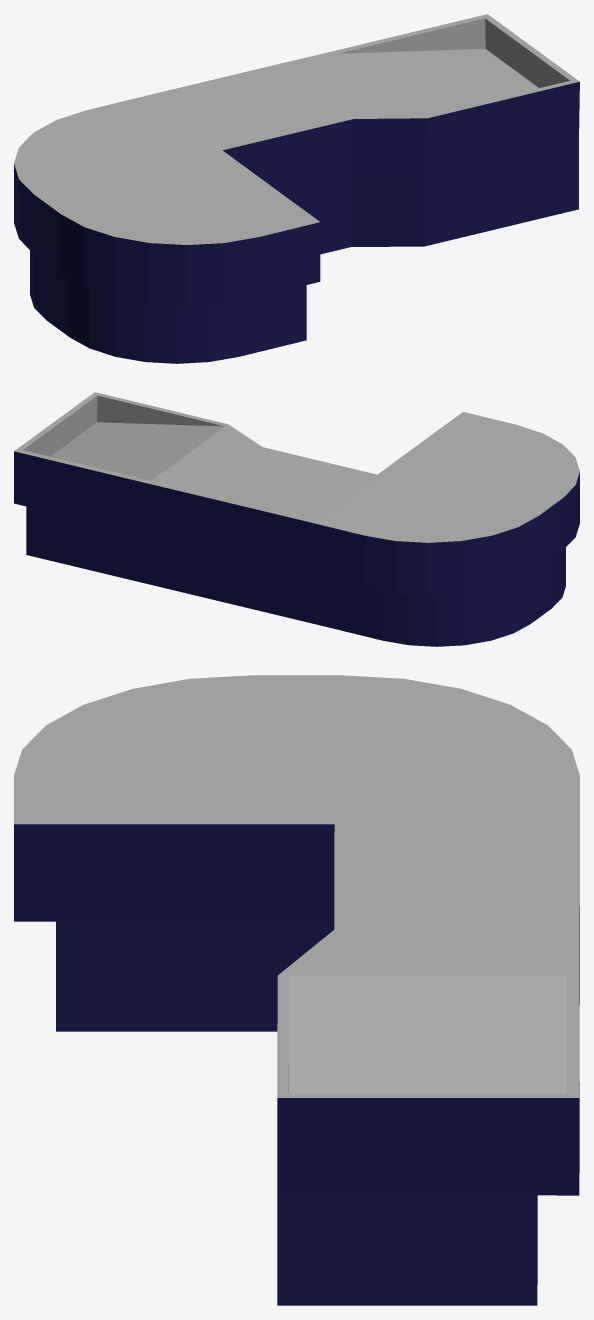
File: Meja kasir kanan.fbx
The picture shows the model from 3 angles, top to bottom: view 1: azimuth 30°, elevation 25°; view 2: azimuth 150°, elevation 25°; view 3: azimuth 270°, elevation 25°; orthographic projection. The views are drawn at different scales.
Parts seen in each view (by area): view 1: Circle.027; view 2: Circle.027; view 3: Circle.027.
Part boxes in pixels (bbox=[...]): Circle.027: bbox=[14, 14, 579, 363]; Circle.027: bbox=[14, 392, 579, 646]; Circle.027: bbox=[14, 675, 579, 1305].
Size of the model in its own units: 462 by 108 by 263.
